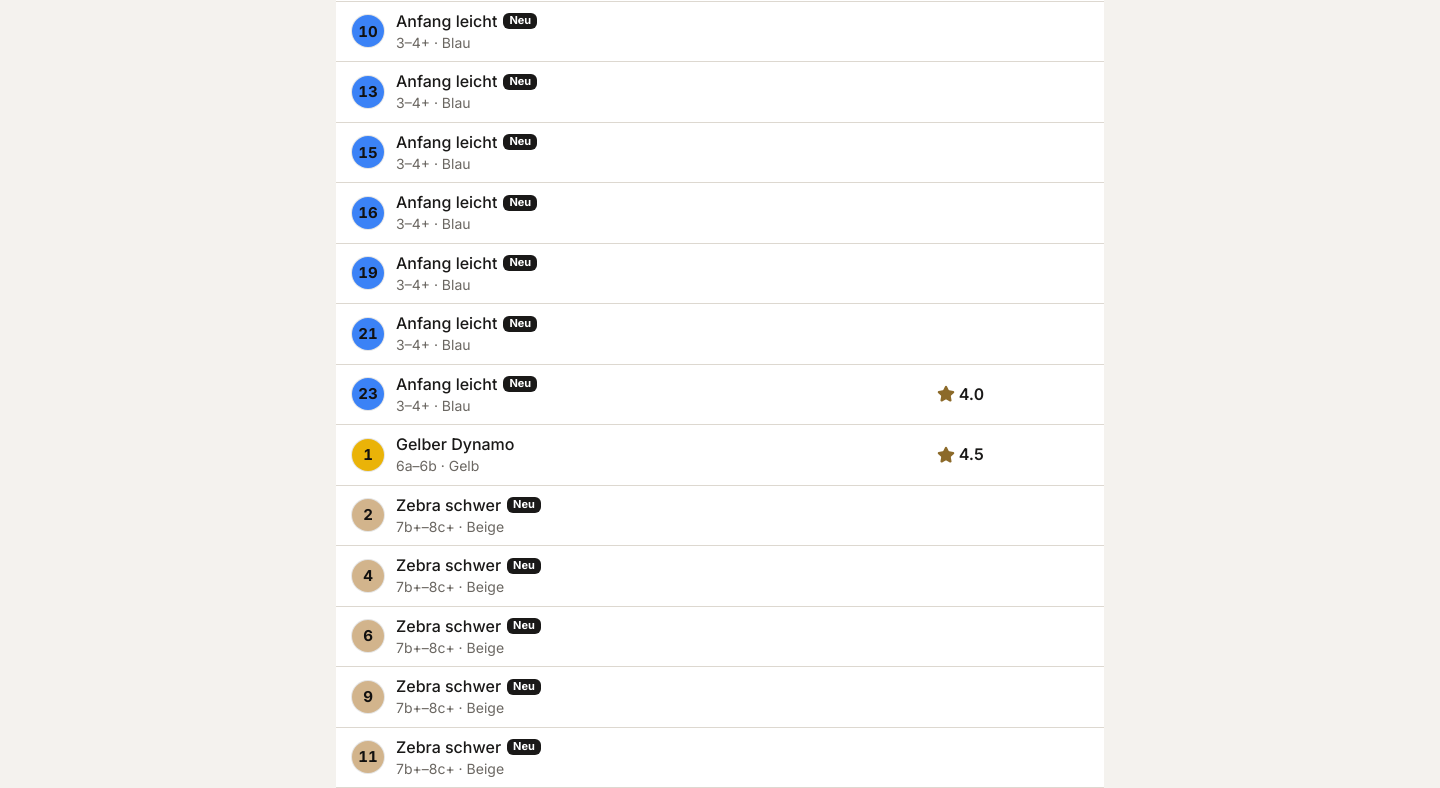
Test: SPEC-022: Kletterer-UX – Ordnung, Übersicht, wenig Text › Boulder-Sheet statt Detail-Modal (F7–F9) › zeigt in den Details «Wer war schon oben» mit Wertungen anderer
This screenshot has width=1440, height=788.
(page scrolled)
Click the button "23 Anfang leicht Neu 3–4+ · Blau 4.0" at (368,394), box [336,365,1104,424]
(page scrolled)
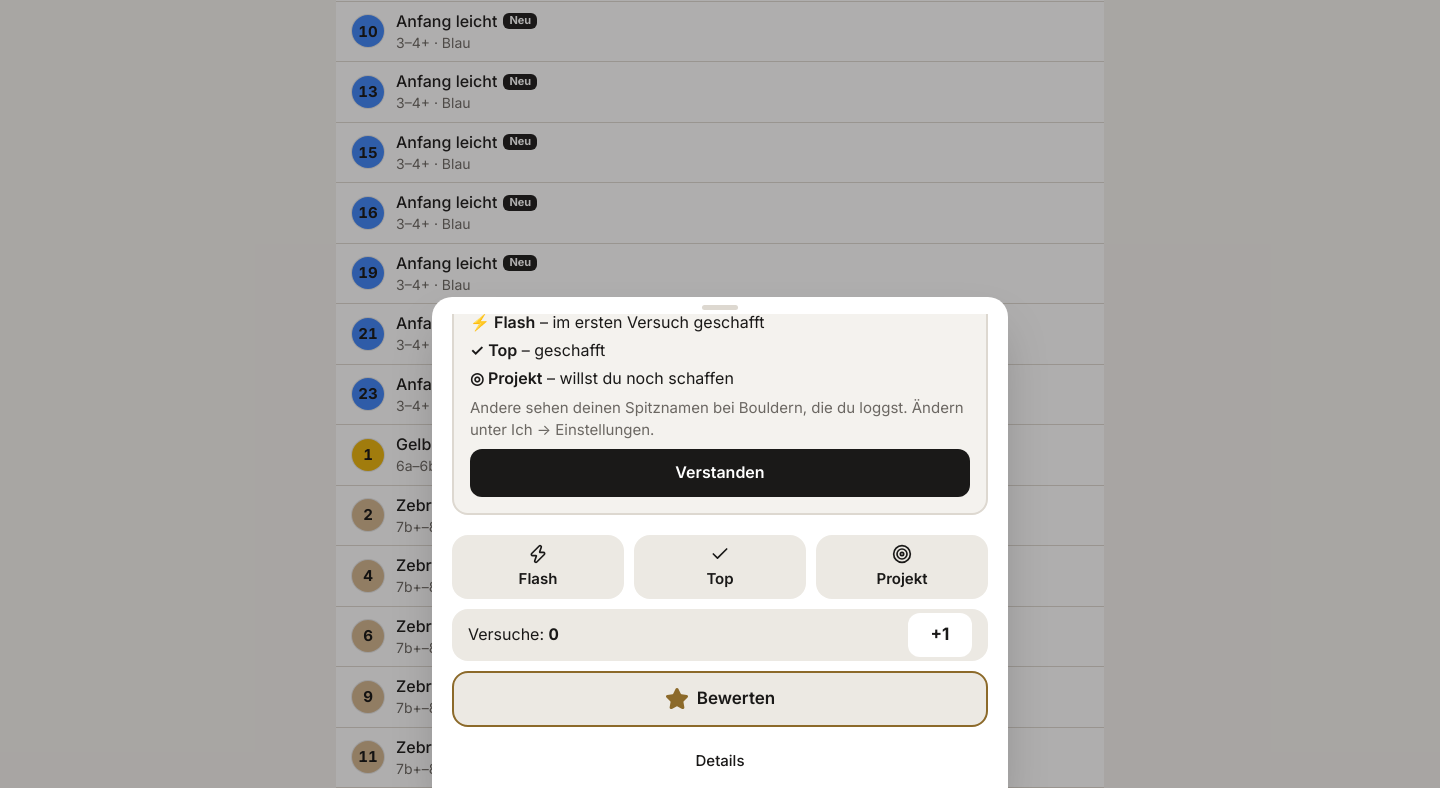
Click the button with test id "boulder-sheet-more" at (720,761), box [452,739,988,783]
(page scrolled)
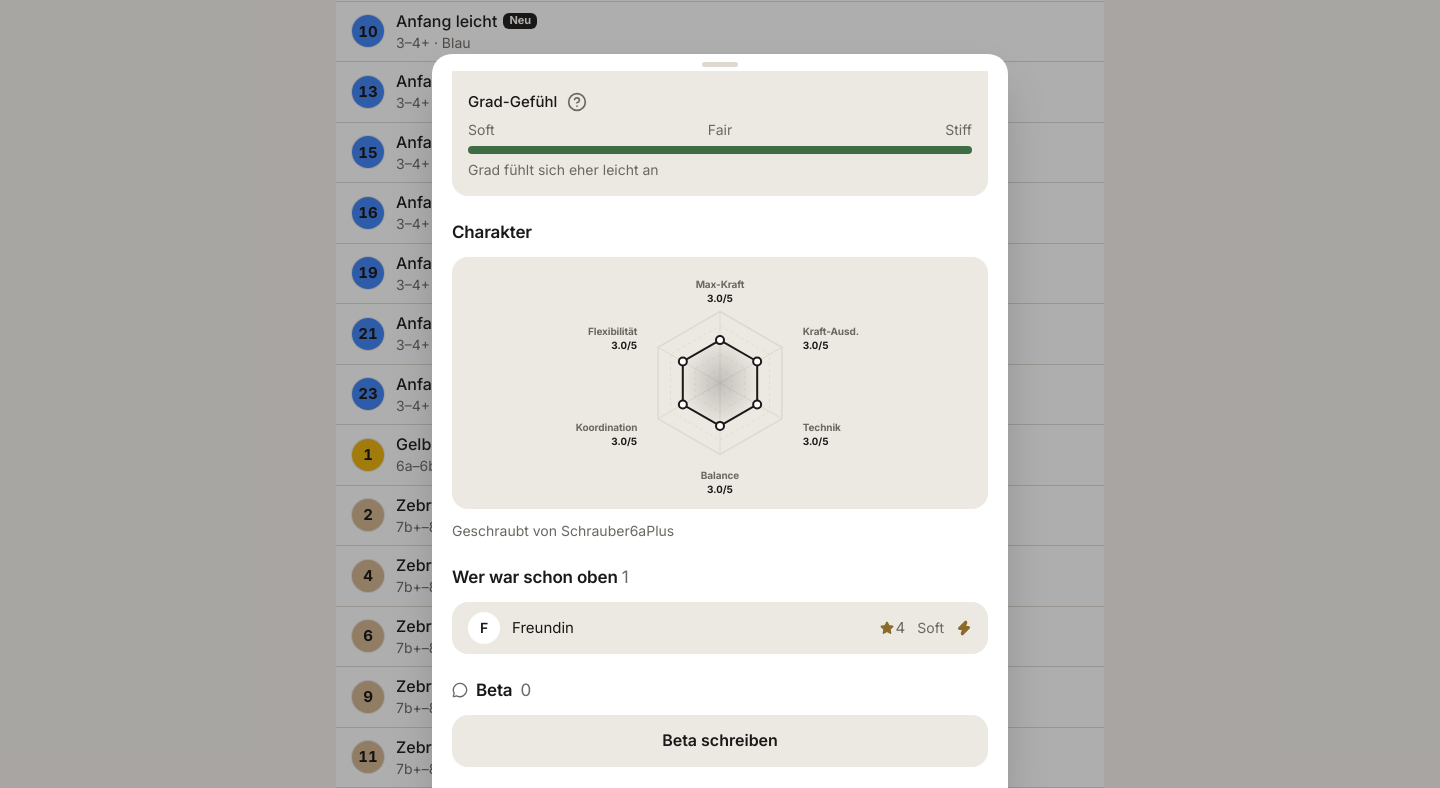
Now the button with test id "community-rating-row-friend-1" shows "Freundin", box [452,602,988,654]
Now the button with test id "community-rating-row-friend-1" shows "4", box [452,602,988,654]
Now the button with test id "community-rating-row-friend-1" shows "Soft", box [452,602,988,654]
